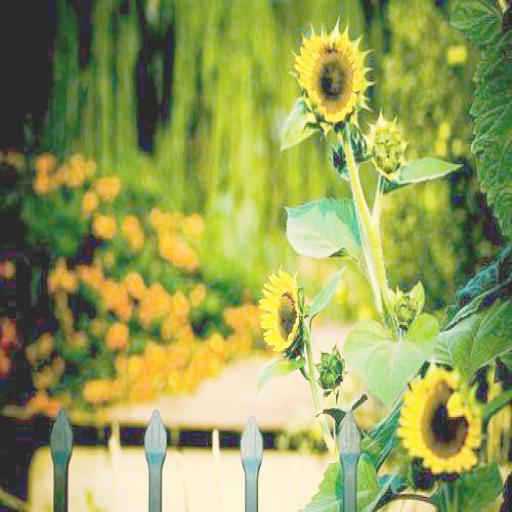sunflower: (400, 365, 482, 472), (293, 21, 370, 129), (259, 266, 301, 352)
